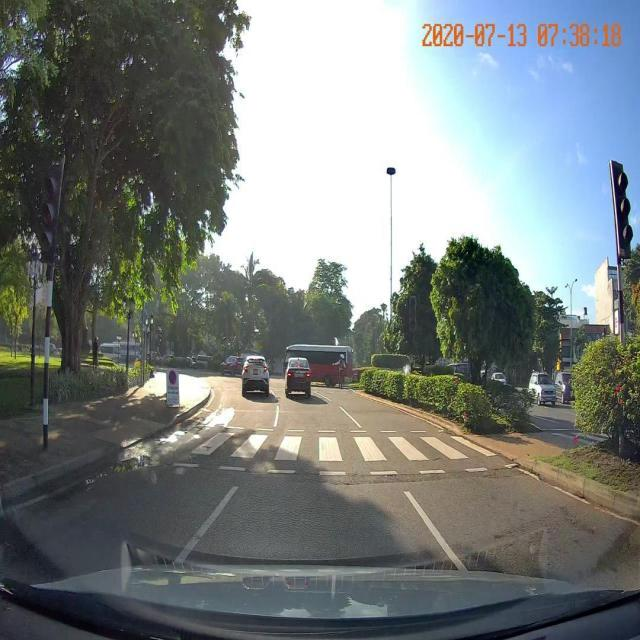Liniya 1: (167, 482, 242, 569), (401, 488, 472, 572), (338, 406, 363, 429), (272, 401, 280, 429)
Perehod: (148, 425, 502, 466)
